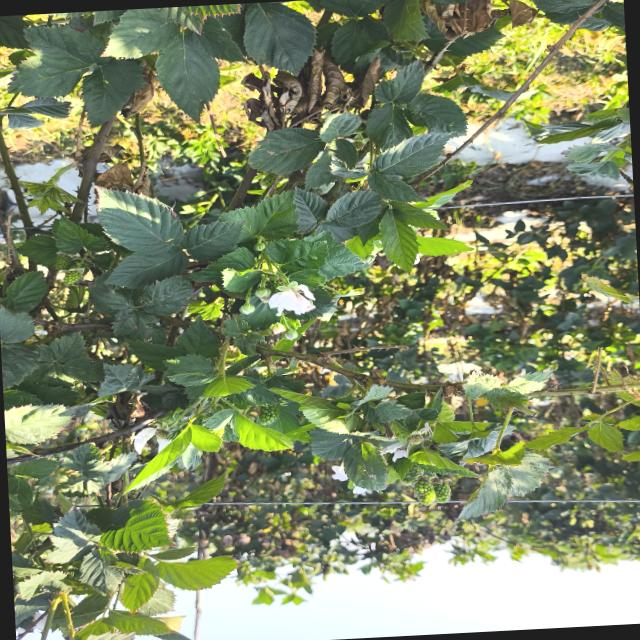boton: (240, 302, 255, 314), (255, 287, 271, 298), (283, 329, 298, 340), (254, 242, 266, 251)
flor: (268, 285, 315, 315)
